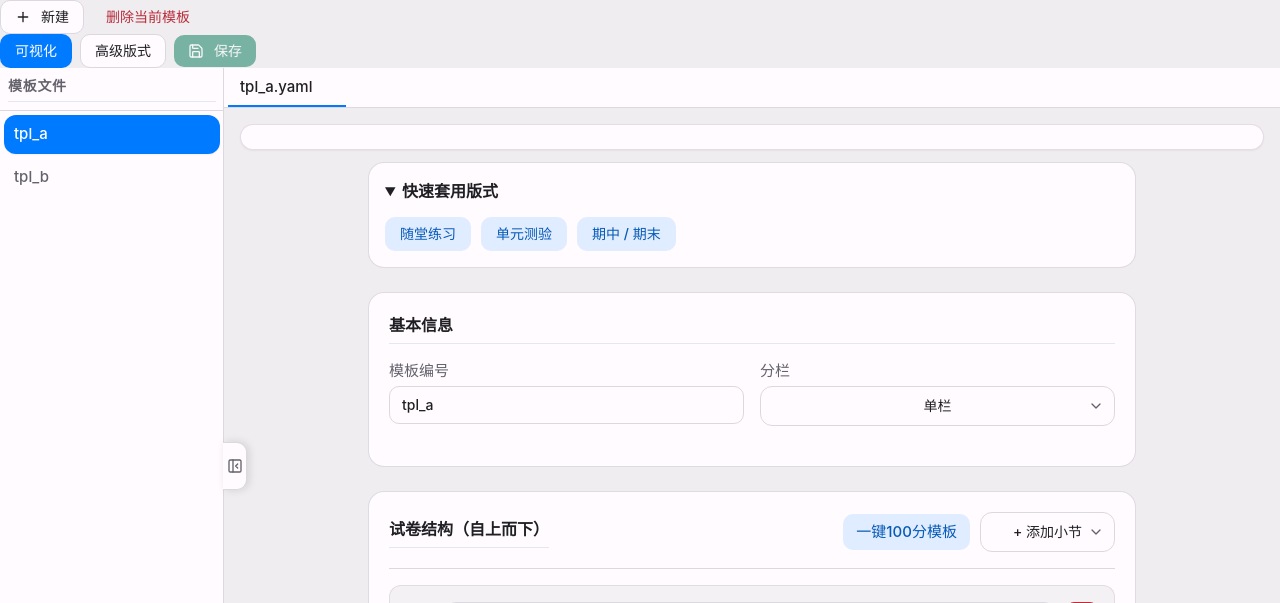
it: TemplateWorkspace async coordination › applies a layout preset and marks workspace dirty
The image size is (1280, 603).
Check: the field showing "tpl_a" is shown, box left=389, top=386, right=744, bottom=424
Click the button "随堂练习". click: (428, 234)
box: left=385, top=217, right=471, bottom=251
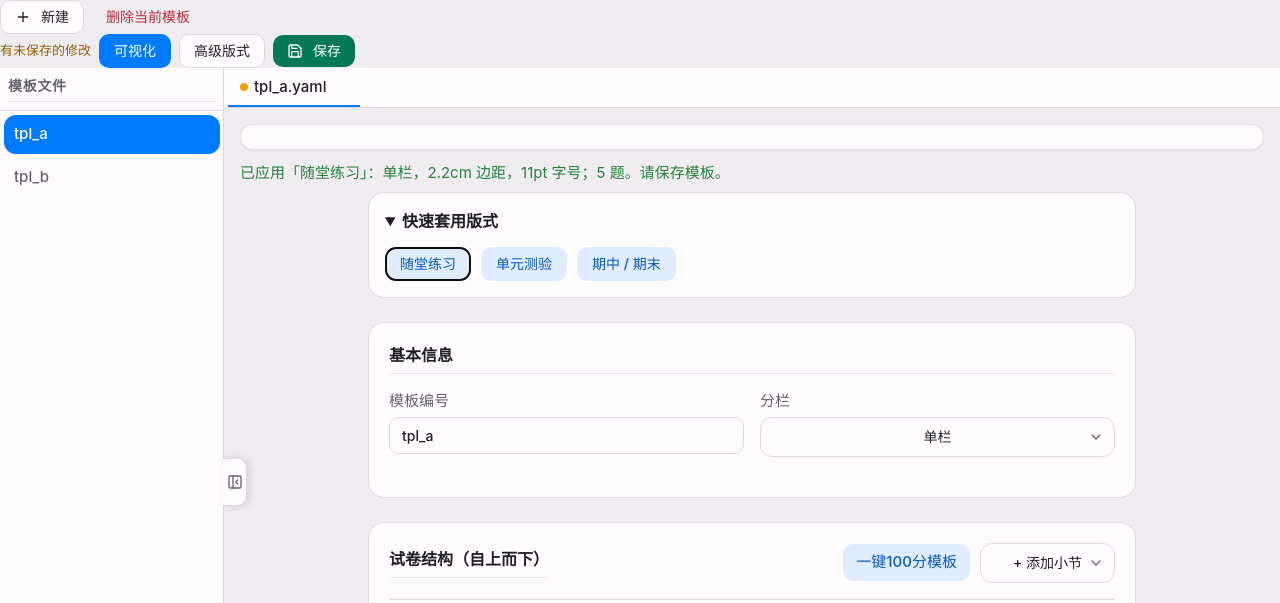
Check: the text "已应用「随堂练习」：单栏，2.2cm 边距，11pt 字号；5 题。请保存模板。" is shown, box left=240, top=163, right=730, bottom=182
Check: the text "有未保存的修改" is shown, box left=0, top=41, right=91, bottom=61
